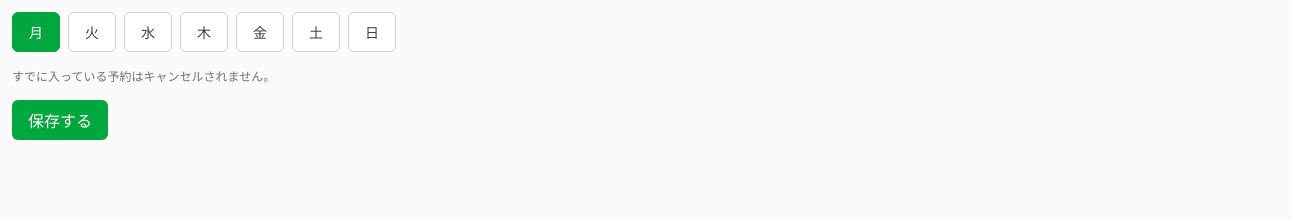
Test case: 押して切り替えて保存すると、選んだ曜日を送る
Expected: the button "保存する" is shown, [12,100,108,140]
Click the button named "月曜日".
click(36, 32)  # box [12,12,60,52]
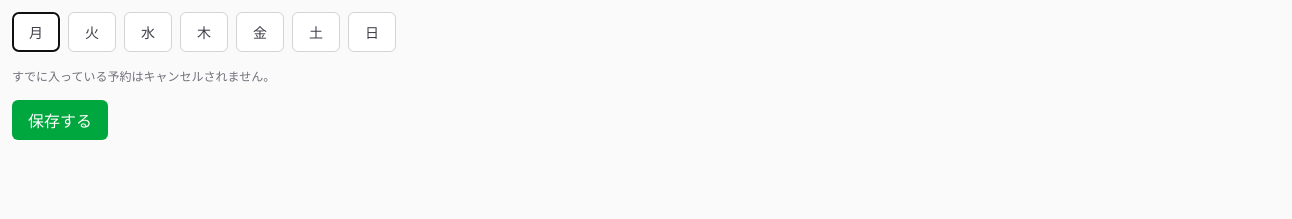
Click the button named "日曜日".
click(372, 32)  # box [348,12,396,52]
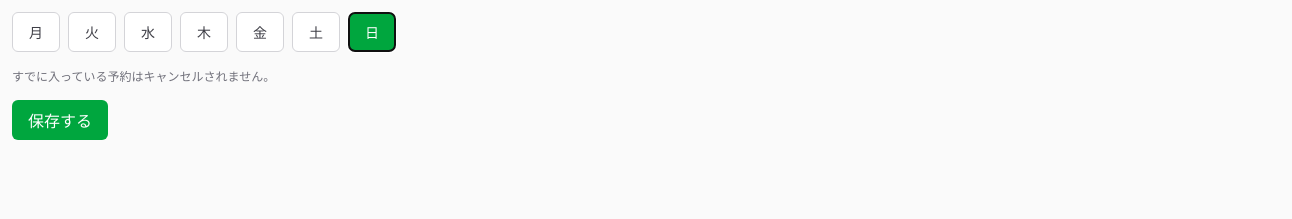
Click the button named "水曜日".
click(148, 32)  # box [124,12,172,52]
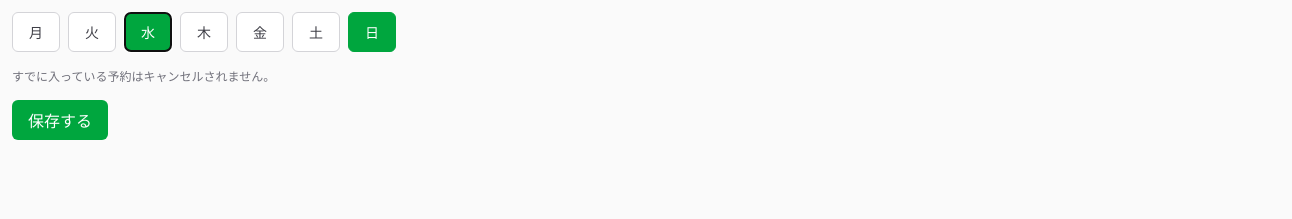
Click the button "保存する".
click(60, 120)  # box [12,100,108,140]
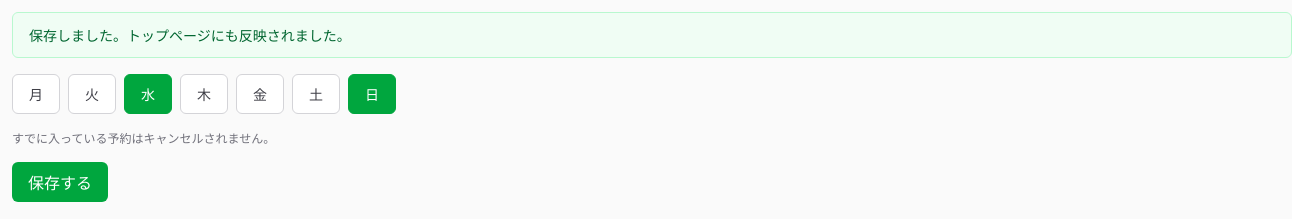
Now the text "保存しました。トップページにも反映されました。" is shown, box [12,12,1291,58]
